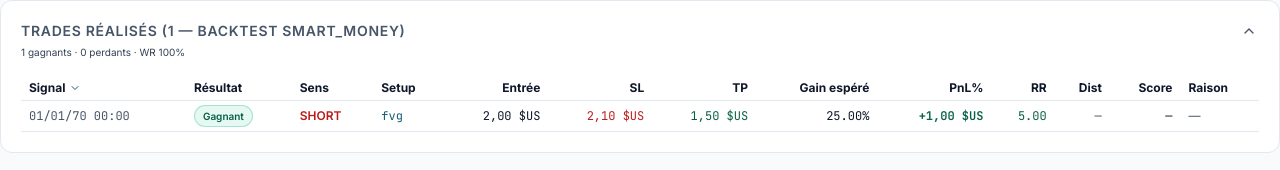
it: RealizedTradesTable collapse › replie et déplie au clic sur le titre
Expected: the text "SHORT" is shown, [300,108,342,123]
Click the button named "replier": (1249, 31) [1239,21,1259,41]
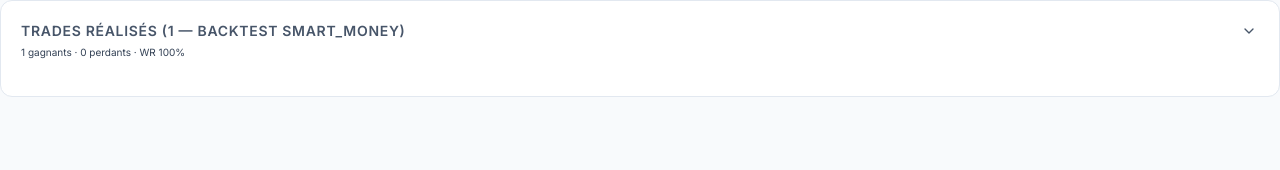
Now the text "SHORT" is gone
